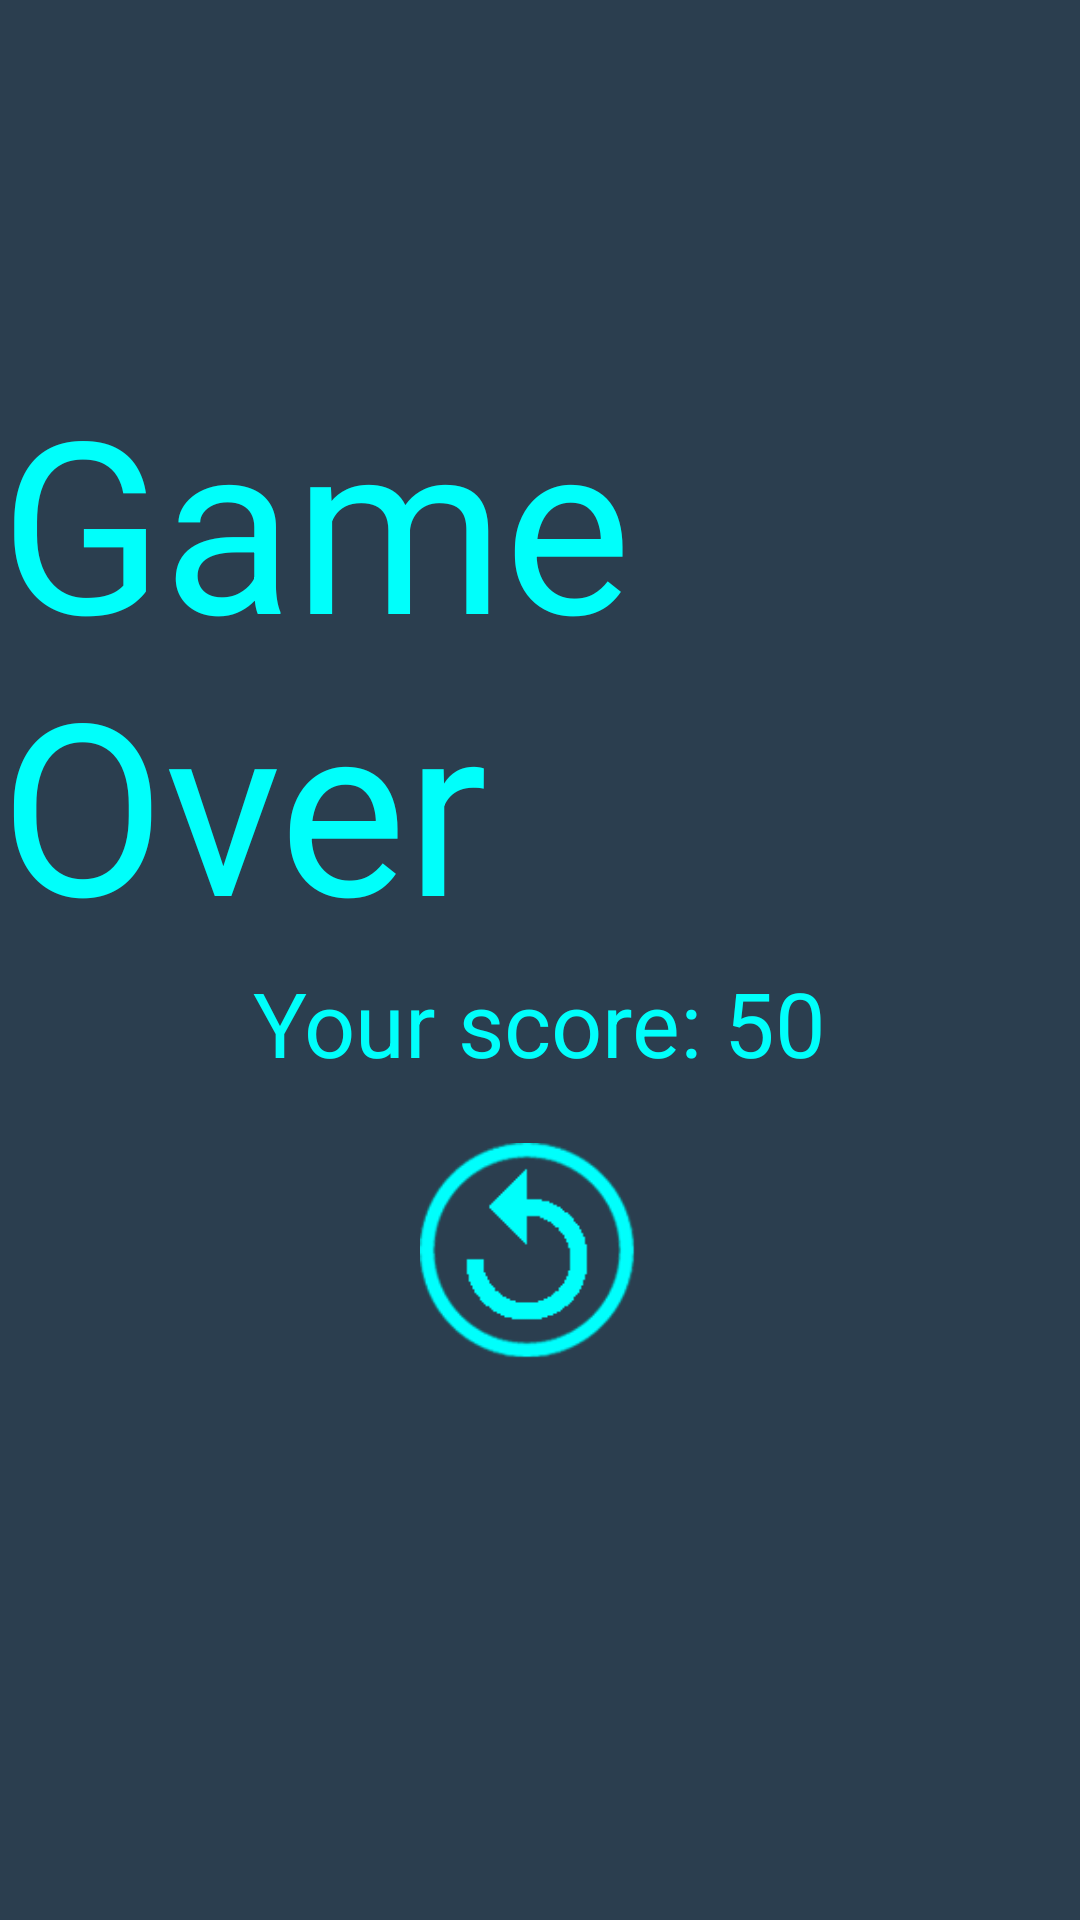

Icon bounding boxes for this 1080w x 1920h phone screenshot, format (x1, y1, x2, y2):
replaybutton: (420, 1143, 634, 1357)
